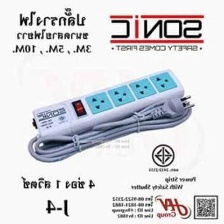three_eye_plug: (30, 66, 187, 147)
